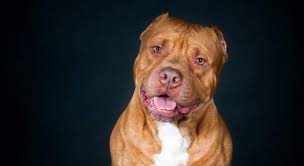Perro Pitbull: (111, 9, 236, 163)
